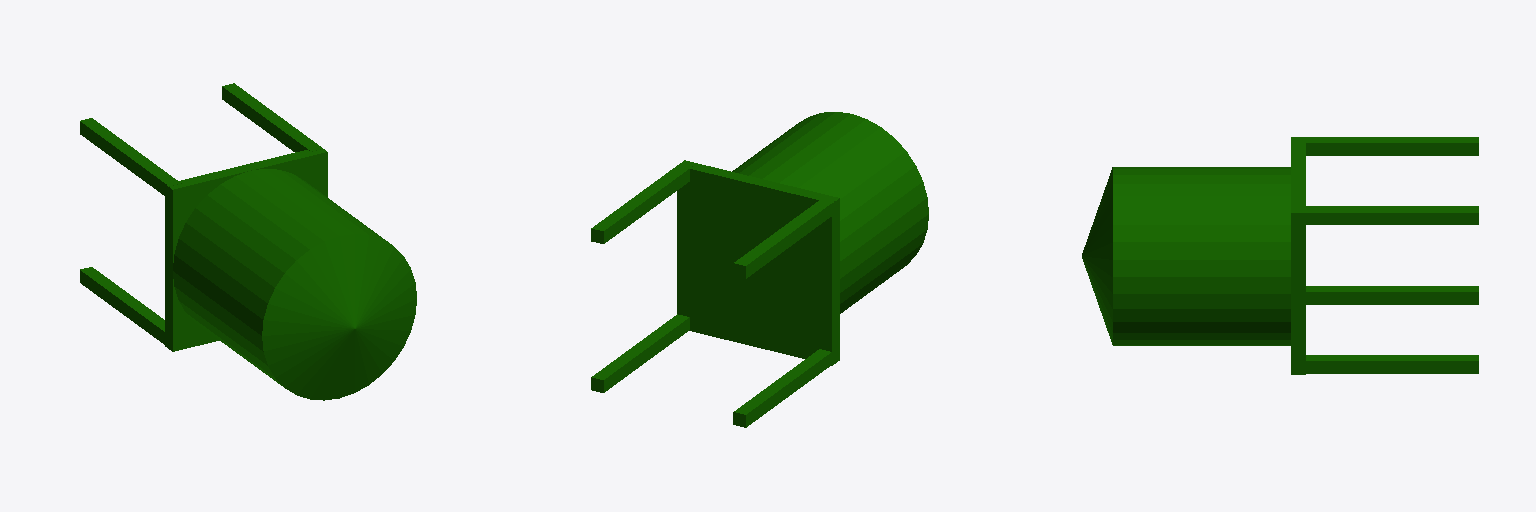
The model's file is depositoVerde.obj.
3 views of the same model, side by side, from view 1: azimuth 30°, elevation 25°; view 2: azimuth 150°, elevation 25°; view 3: azimuth 270°, elevation 25° (orthographic).
Parts seen in each view (by area): view 1: Cylinder, Cube, Cube.004, Cube.003, Cube.001; view 2: Cube, Cylinder, Cube.004, Cube.003, Cube.002, Cube.001; view 3: Cylinder, Cube, Cube.003, Cube.004, Cube.002, Cube.001.
Part boxes in pixels (x1,y1,x2,y2): Cylinder: (173, 169, 416, 400); Cube: (165, 149, 327, 351); Cube.004: (80, 118, 181, 195); Cube.003: (222, 83, 322, 151); Cube.001: (80, 267, 164, 344); Cube: (677, 160, 839, 365); Cylinder: (732, 112, 928, 313); Cube.004: (733, 198, 834, 278); Cube.003: (591, 163, 692, 243); Cube.002: (591, 314, 689, 392); Cube.001: (733, 349, 831, 427); Cylinder: (1082, 167, 1290, 345); Cube: (1291, 137, 1305, 374); Cube.003: (1299, 206, 1478, 224); Cube.004: (1299, 137, 1478, 155); Cube.002: (1306, 355, 1478, 373); Cube.001: (1306, 286, 1478, 304).
Size of the model in its own units: 2 by 2 by 4.43.